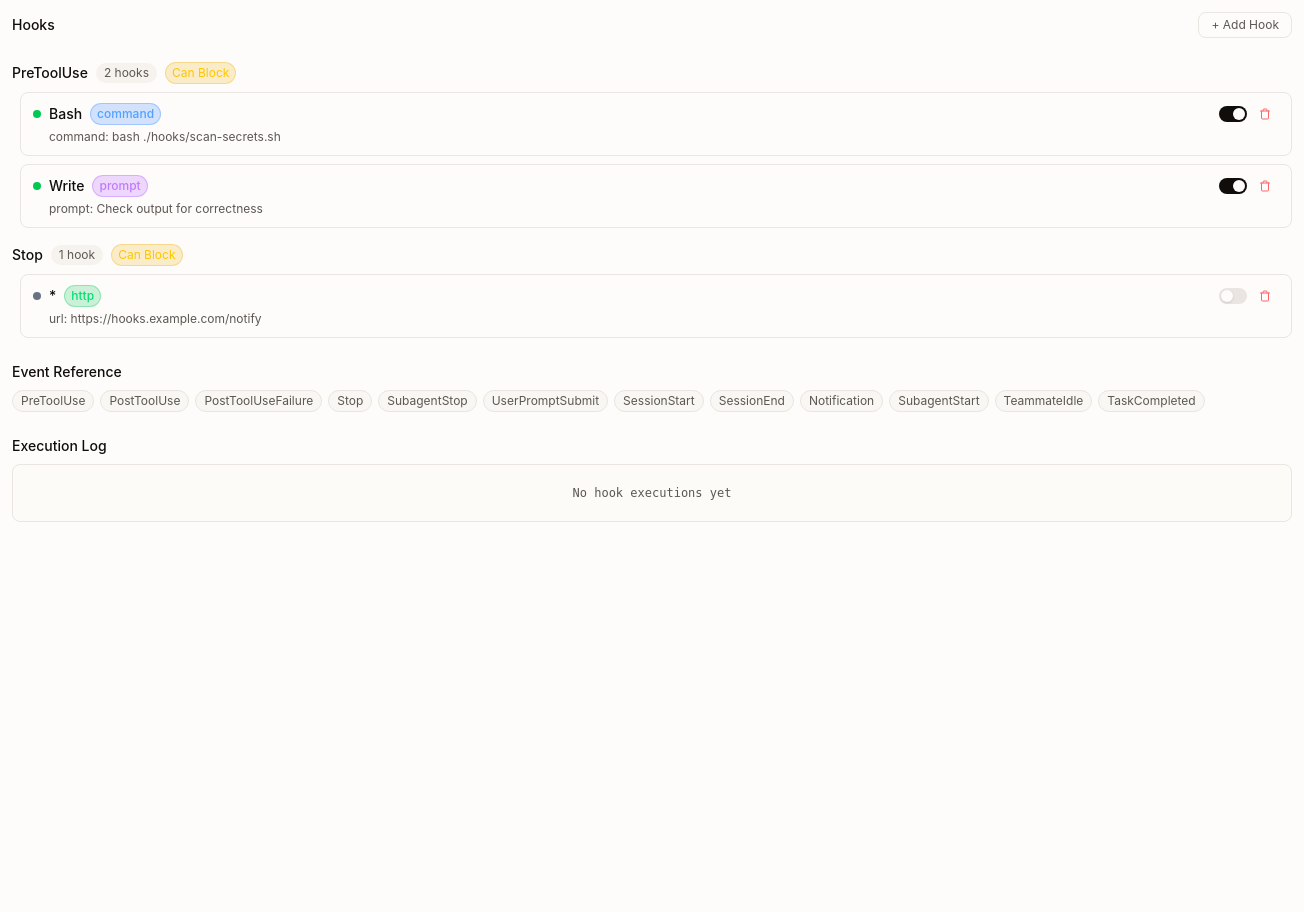
it: HooksPanel › add hook button opens form
expect the element with test id "hooks-panel" is shown: met, box [12, 12, 1292, 522]
Click the button with test id "hooks-add-btn": (1245, 25) [1198, 12, 1292, 38]
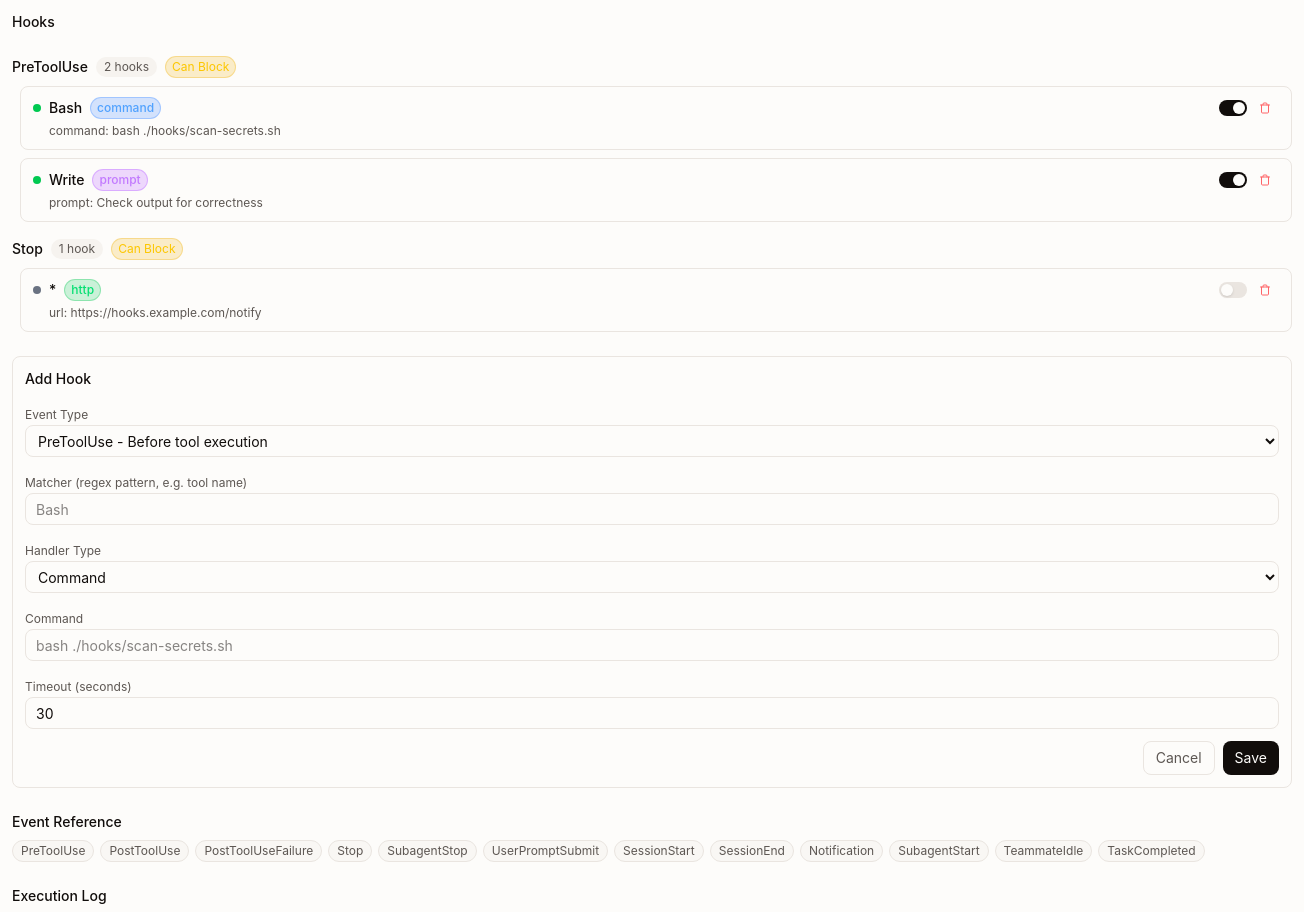
expect the element with test id "hooks-add-form" is shown: met, box [12, 356, 1292, 788]
expect the dropdown with test id "hooks-add-event-select" is shown: met, box [25, 425, 1279, 457]
expect the dropdown with test id "hooks-add-handler-type-select" is shown: met, box [25, 561, 1279, 593]
